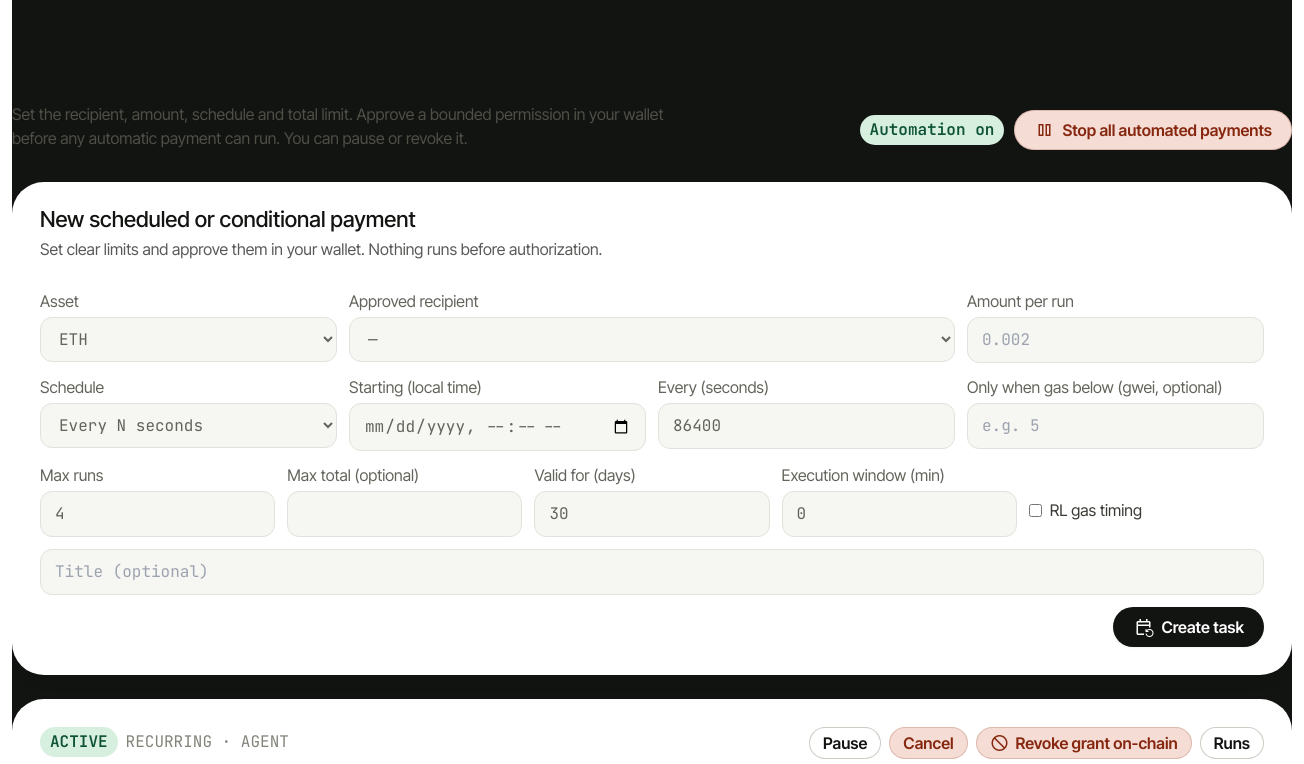
it: grant revocation on contract v2 › does not report the task cancelled when the revocation transaction fails
Click the button "Revoke grant on-chain" at coordinates (1084, 744), box top-left (976, 728), bottom-right (1192, 760)
(page scrolled)
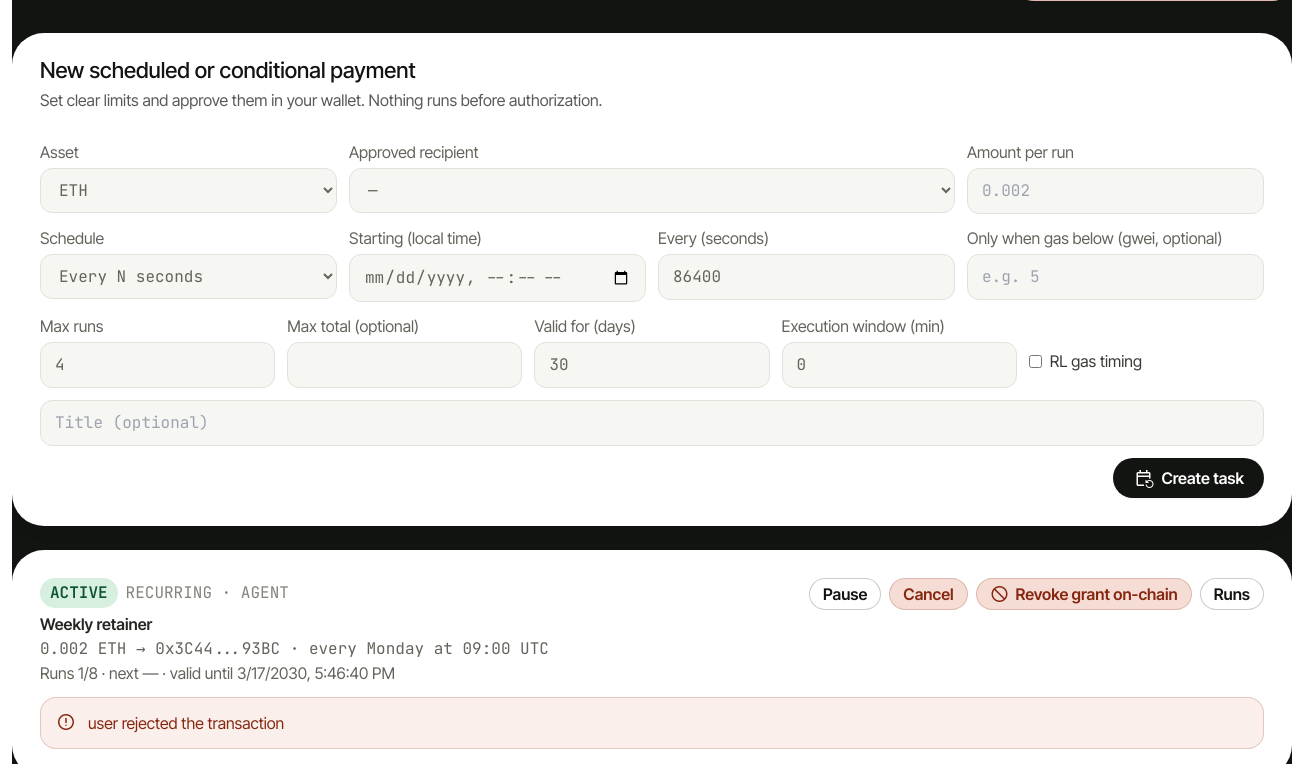
Expected: the text "user rejected the transaction" is shown, top-left (88, 711), bottom-right (284, 735)
